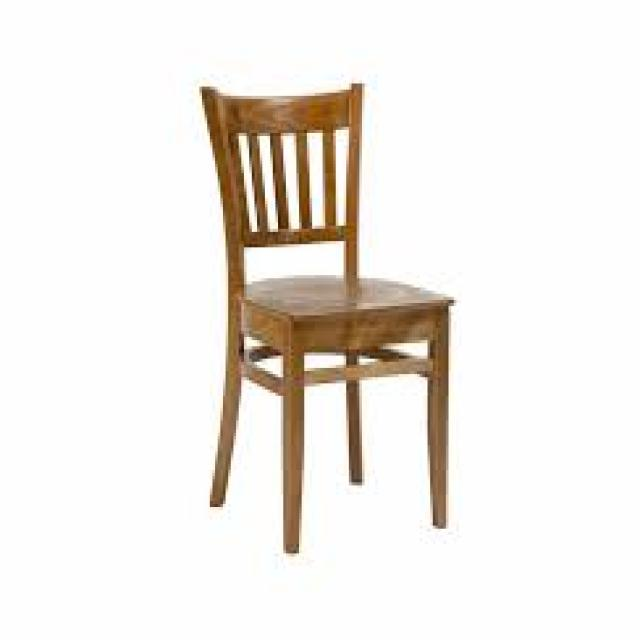chair: (110, 59, 496, 562)
